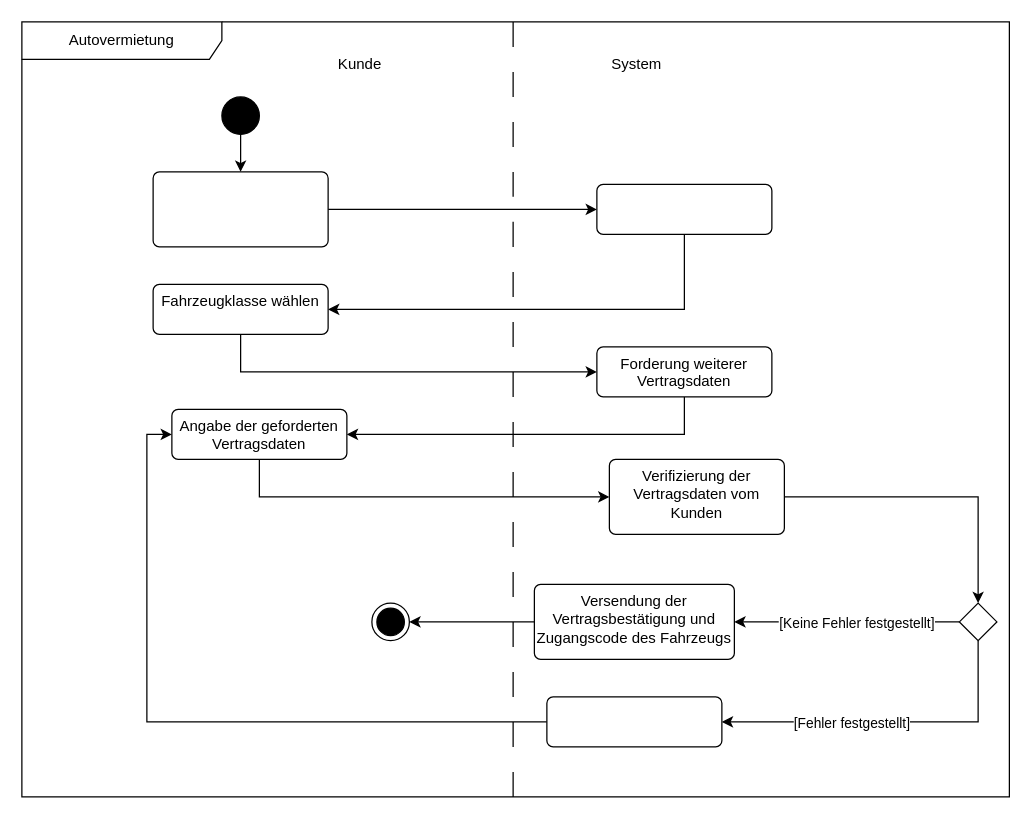
Image size: 1031x819. Some labels were removed from this diagram. Each missing label, with the centre of its shape:
"Erneute Forderung der Vertragsdaten" goes at [634,721].
"Mögliche Fahrzeuge anbieten" goes at [684,208].
"Wahl gewünschte Anmietestation und Mietzeitraum" goes at [240,209].
